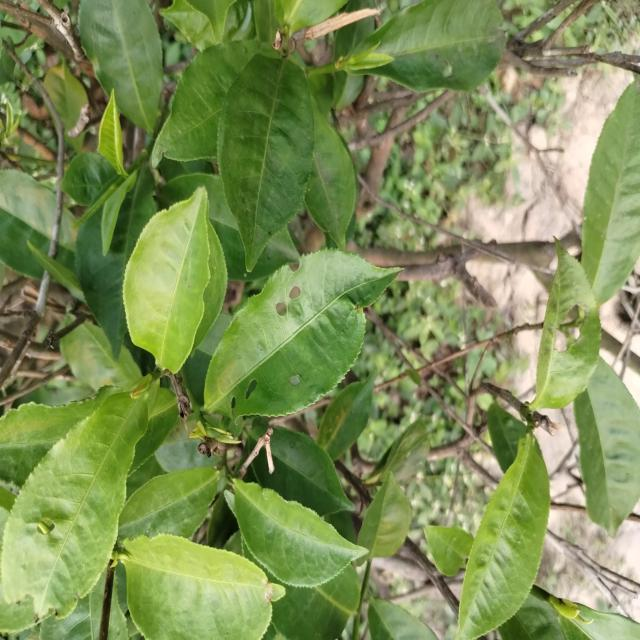Leaf: (204, 249, 400, 421), (1, 392, 147, 618), (217, 54, 313, 270), (456, 432, 550, 640), (124, 534, 282, 640), (123, 187, 210, 373), (75, 165, 156, 356), (159, 173, 299, 281), (234, 479, 366, 586), (352, 0, 505, 92), (152, 41, 264, 165), (582, 80, 640, 305), (0, 386, 122, 487), (574, 358, 640, 536), (531, 240, 600, 410), (79, 0, 163, 132), (251, 426, 354, 516), (117, 467, 219, 545), (305, 107, 356, 249), (272, 565, 359, 640), (0, 169, 55, 279), (60, 323, 143, 390), (317, 369, 376, 460), (357, 473, 412, 559), (40, 569, 106, 640), (363, 419, 429, 486), (130, 387, 178, 474), (28, 241, 85, 301), (43, 61, 88, 131), (499, 593, 565, 640), (101, 170, 137, 255), (62, 152, 117, 206), (368, 598, 438, 640), (559, 605, 640, 640), (160, 0, 216, 50), (487, 402, 526, 472), (423, 525, 474, 576), (98, 90, 127, 176), (275, 0, 347, 33), (189, 0, 235, 43), (109, 579, 128, 640), (57, 210, 75, 268), (247, 417, 267, 448)
